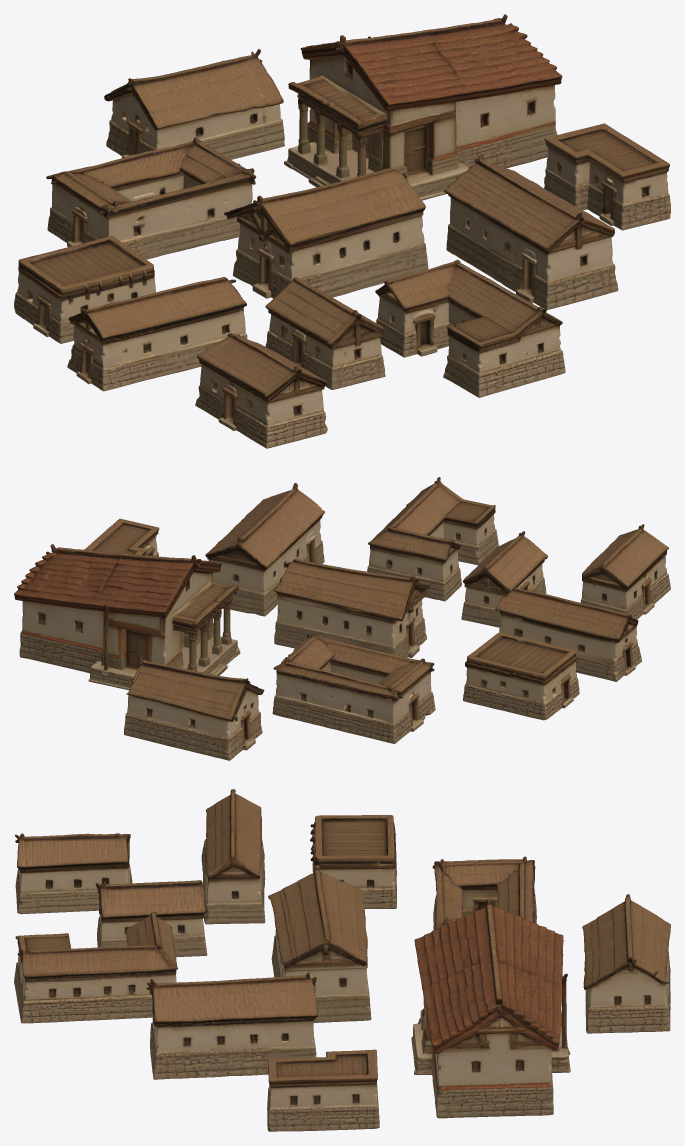
File: Ancient Village (Greco-Roman).fbx
The picture shows the model from 3 angles, top to bottom: view 1: azimuth 30°, elevation 25°; view 2: azimuth 150°, elevation 25°; view 3: azimuth 270°, elevation 25°; orthographic projection. The views are drawn at different scales.
Parts seen in each view (by area): view 1: tripo_node_efabf291; view 2: tripo_node_efabf291; view 3: tripo_node_efabf291.
Boxes of the visible parts, box(x1,y1,x2,y2) form: tripo_node_efabf291: box(14, 14, 670, 448); tripo_node_efabf291: box(14, 477, 670, 760); tripo_node_efabf291: box(14, 789, 670, 1131).
Size of the model in its own units: 0.9992 by 0.231 by 1.
